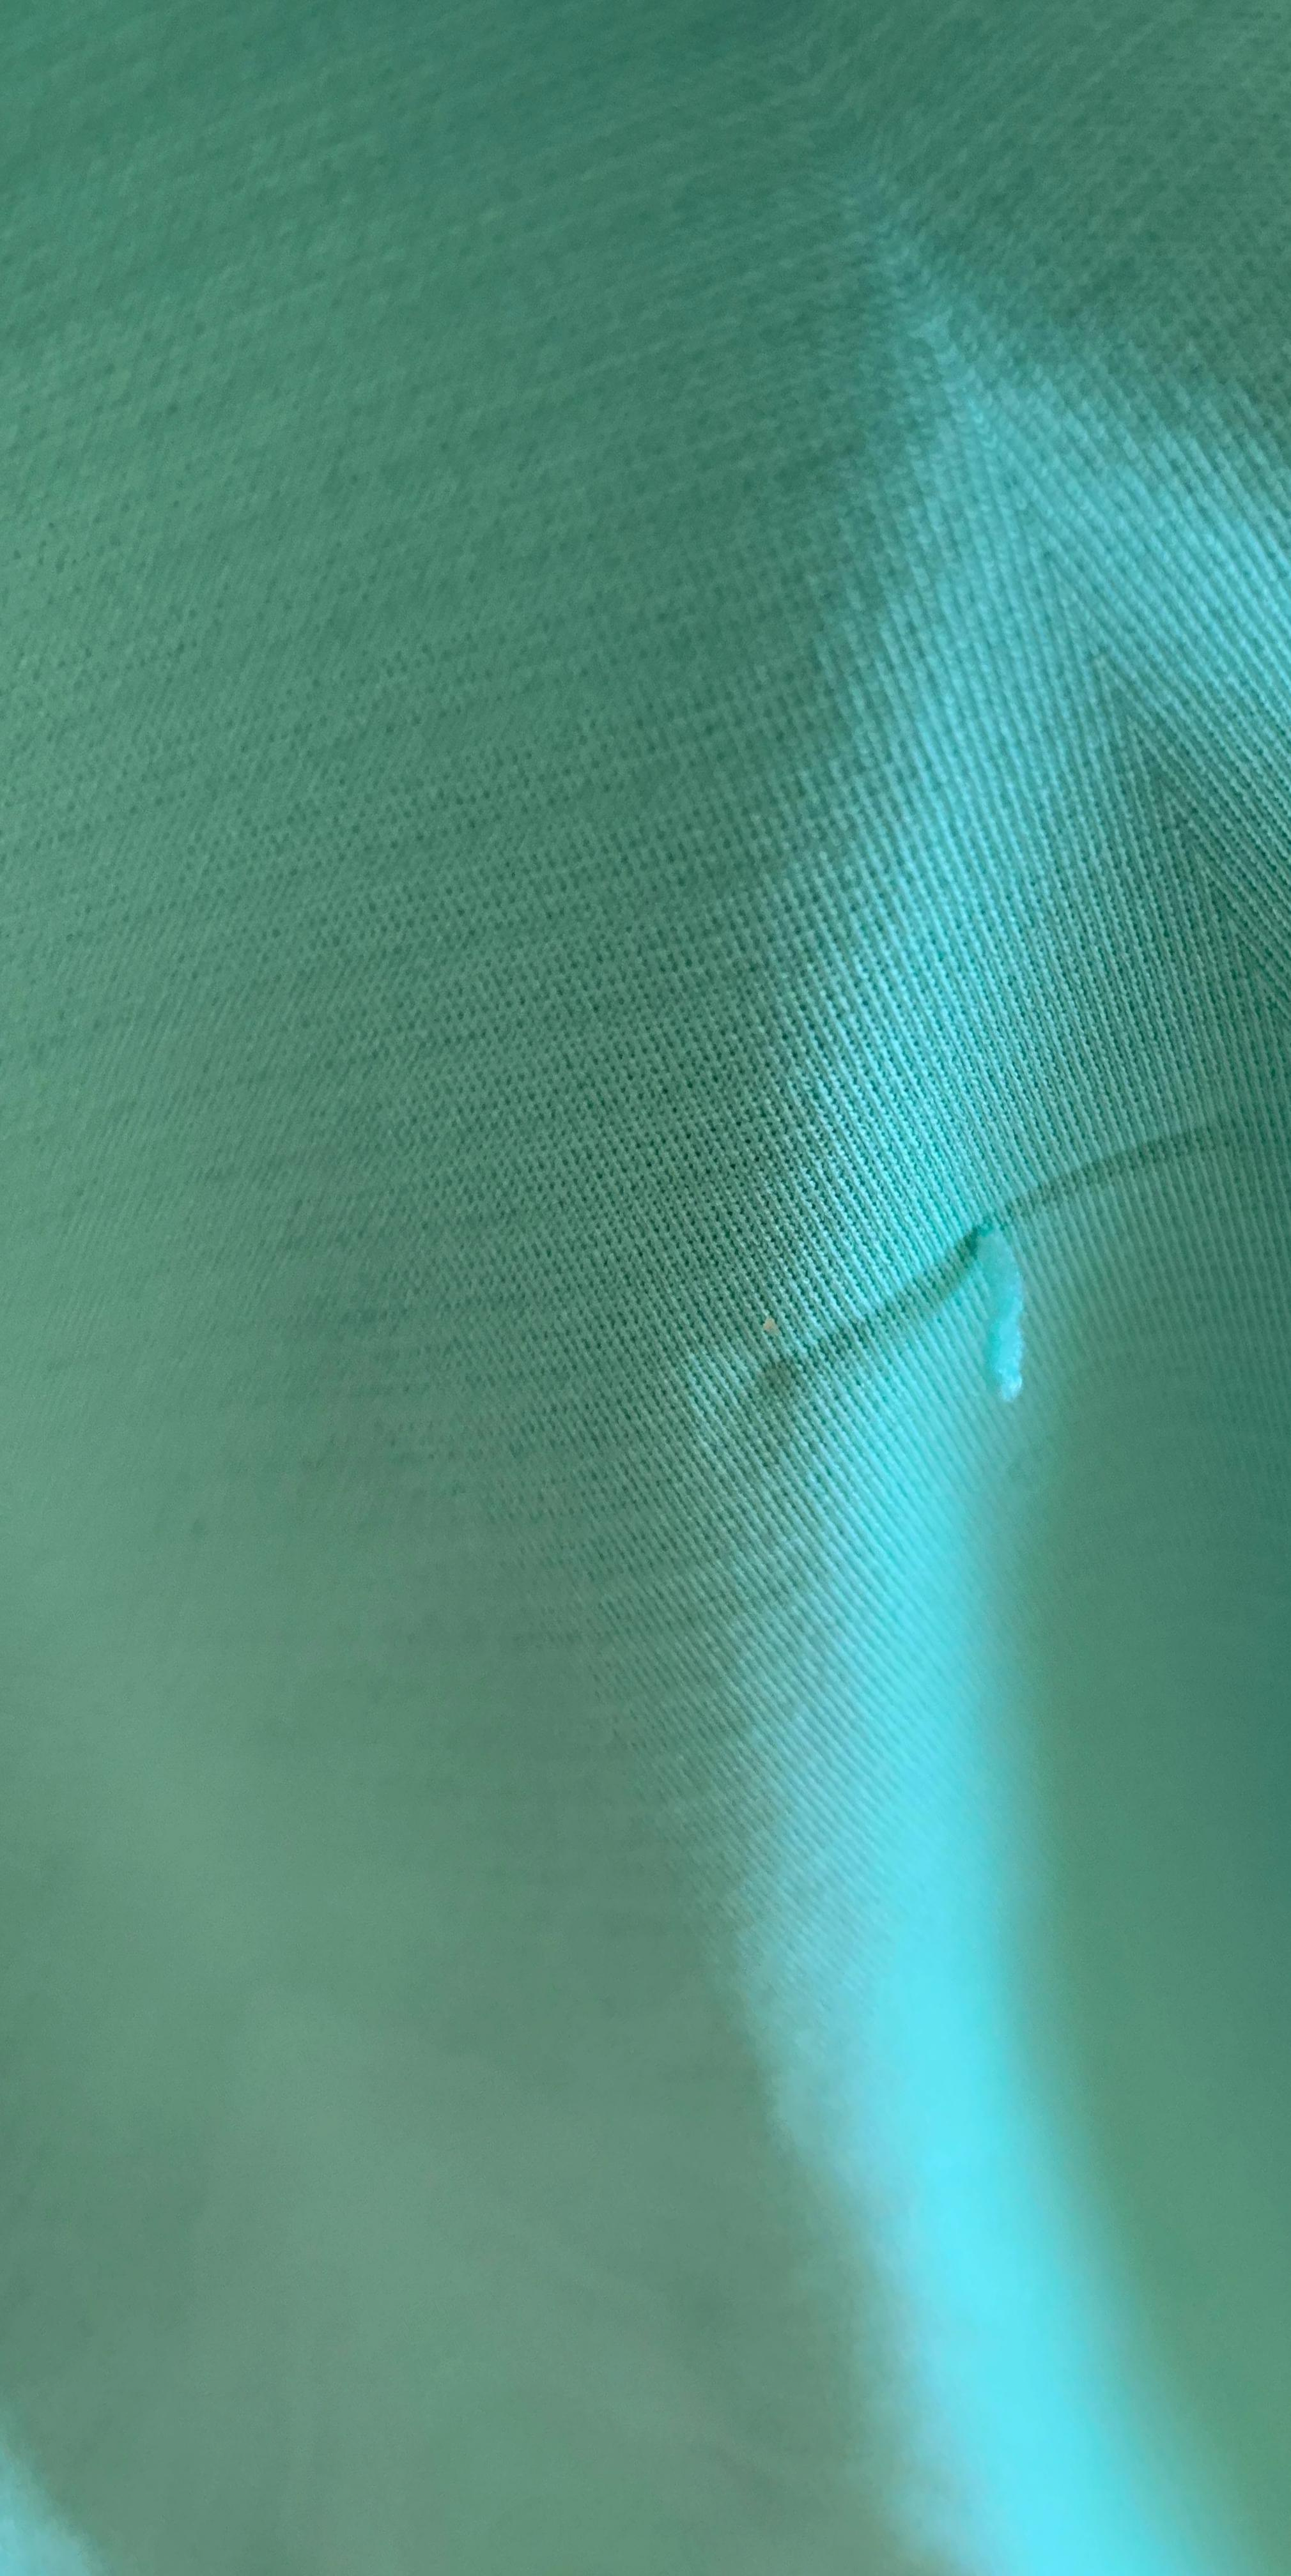snag: (866, 1152, 1121, 1462)
